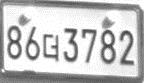2: (119, 29, 135, 66)
3: (63, 26, 78, 62)
6: (24, 26, 40, 60)
7: (81, 28, 98, 63)
8: (100, 29, 116, 64), (7, 24, 22, 60)
더: (42, 33, 60, 62)
